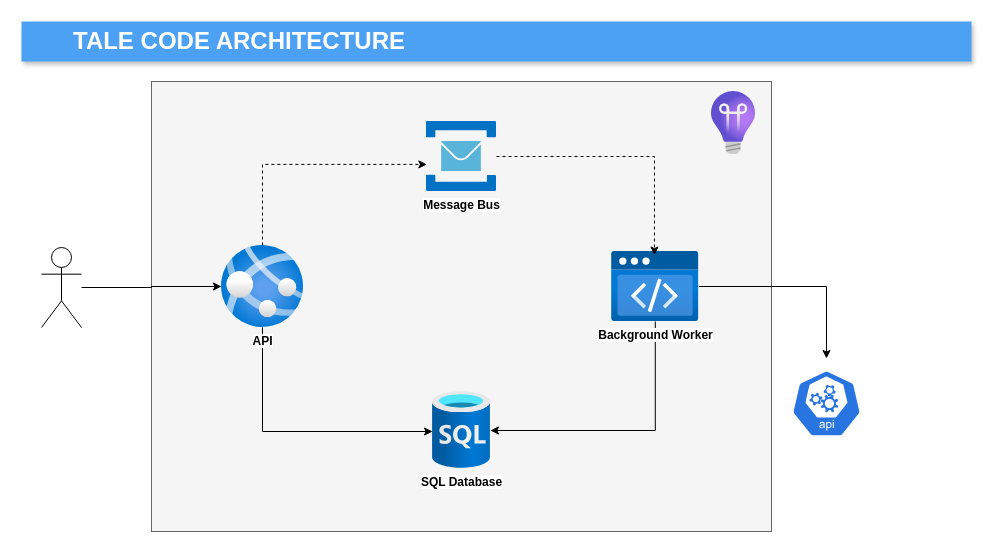
Image size: 994x549. Some labels were removed from this diagram. The centre of each missing label's shape, as x and y in pixels:
Actor: point (61, 287)
App Insights: point (733, 122)
